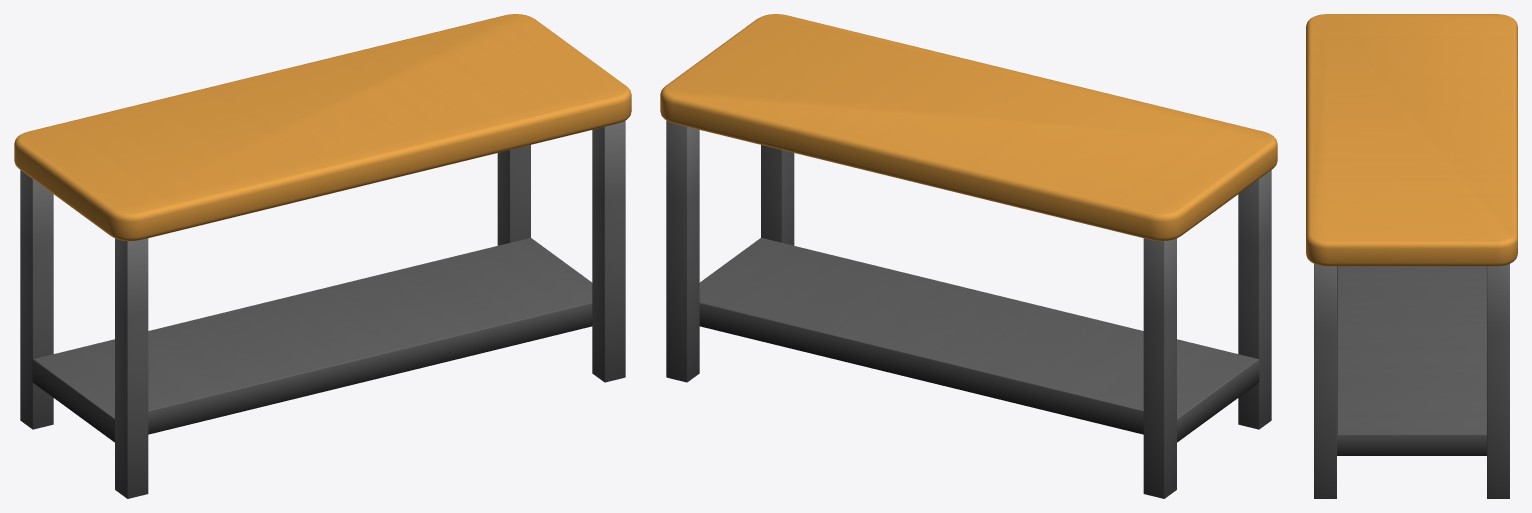
Rendered from worktable.fbx.
The picture shows the model from 3 angles, left to right: view 1: azimuth 30°, elevation 25°; view 2: azimuth 150°, elevation 25°; view 3: azimuth 270°, elevation 25°; orthographic projection. The views are drawn at different scales.
Parts seen in each view (by area): view 1: Work Table; view 2: Work Table; view 3: Work Table.
Part boxes in pixels (x1,y1,x2,y2): Work Table: [14, 14, 631, 498]; Work Table: [660, 14, 1277, 498]; Work Table: [1306, 14, 1517, 498].
Size of the model in its own units: 200 by 105 by 77.41.
1 material, 1 textured.
